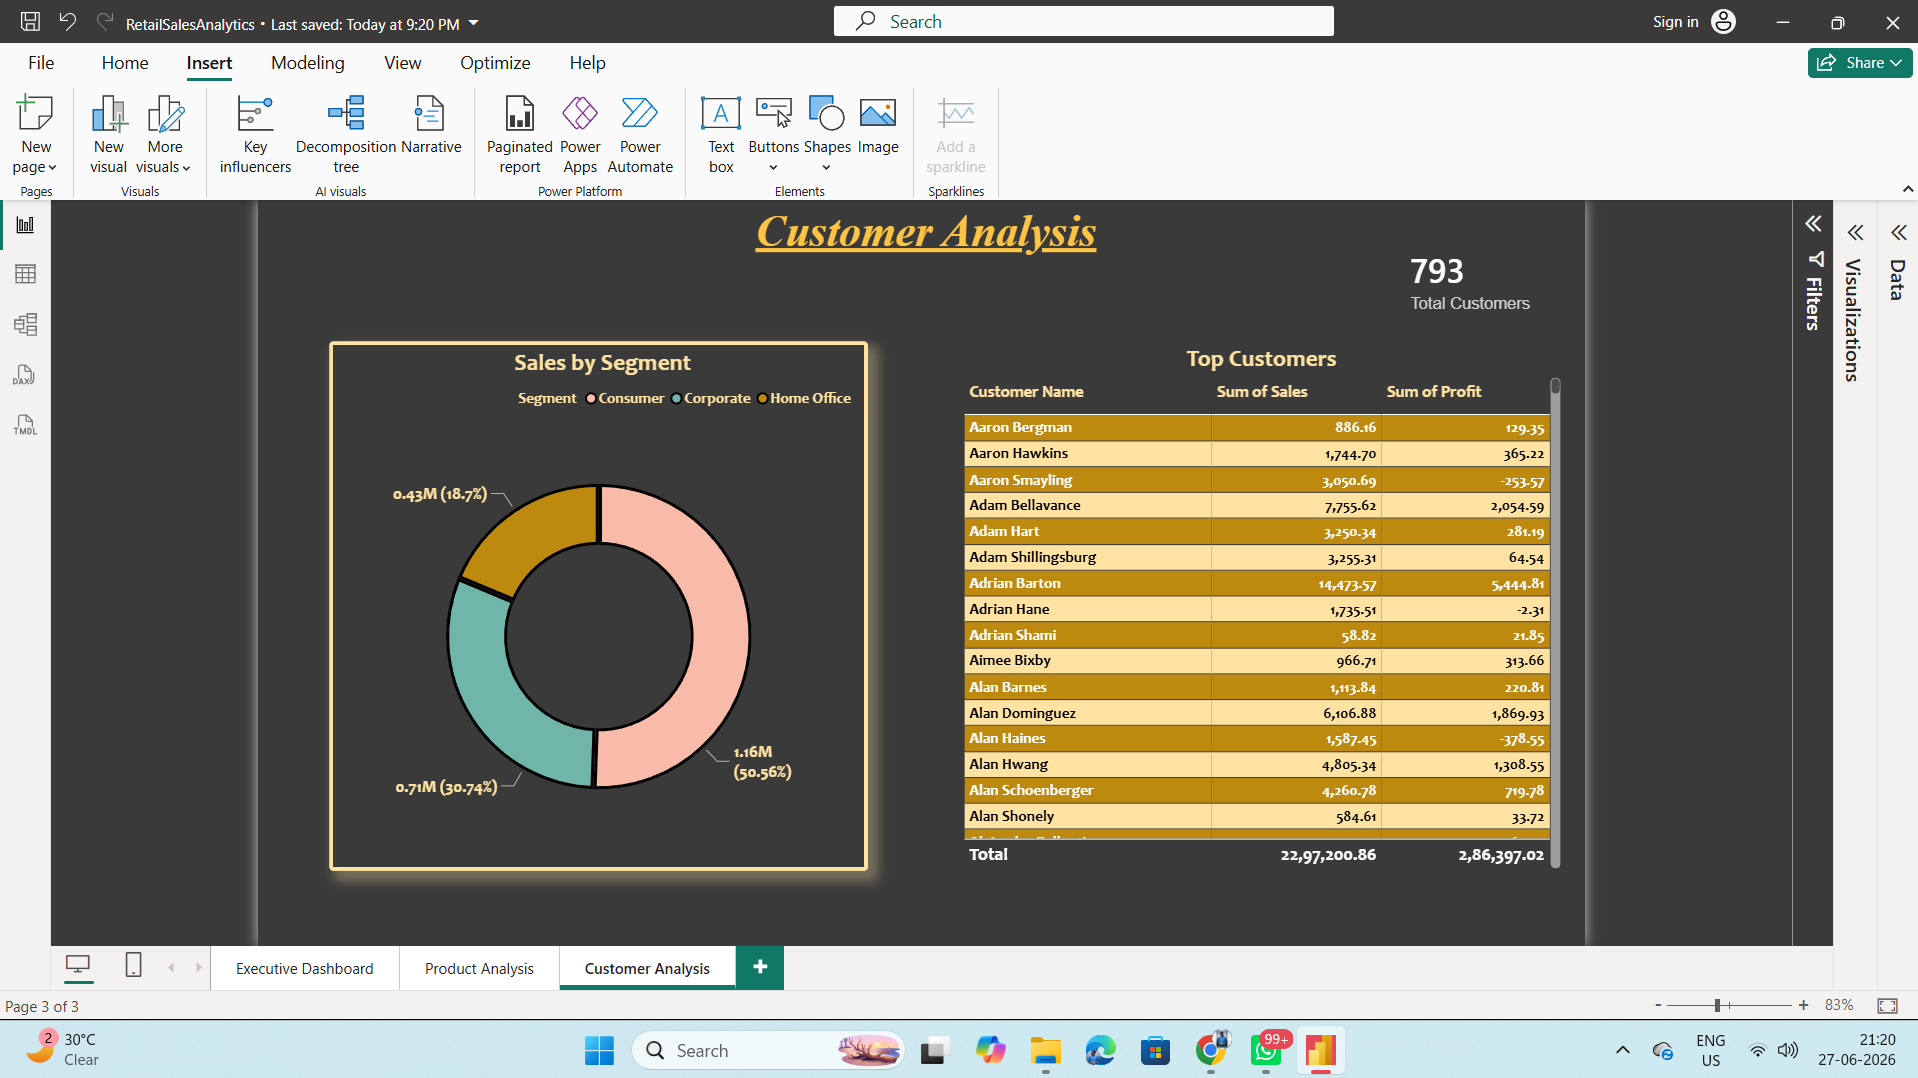

The dashboard page shown, as its layout file describes it:
{"tool":"powerbi","page":{"name":"Customer Analysis","canvas":[1280,720],"ordinal":2},"visuals":[{"type":"textbox","box":[10,0,1270,65],"z":0},{"type":"donutChart","title":"Sales by Segment","fields":{"Y":["Sum(Sample - Superstore.Sales)"],"Series":["Sample - Superstore.Segment"]},"box":[68.8,136.3,520,511.5],"z":1},{"type":"tableEx","title":"Top Customers","fields":{"Values":["Sample - Superstore.Customer Name","Sum(Sample - Superstore.Sales)","Sum(Sample - Superstore.Profit)"]},"box":[675.6,138.7,586.3,511.5],"z":2},{"type":"cardVisual","fields":{"Data":["DateTable.Total Customers"]},"box":[1082.2,16.9,179.8,119.4],"z":3}]}

Visuals, with their boxes on the page's 1280x720 design canvas (x1, y1, x2, y2). These are canvas units, not pixel positions in the 1918x1078 screenshot, which may show the page scaled, cropped or inside an application window:
textbox: <region>10, 0, 1280, 65</region>
"Sales by Segment" donutChart: <region>69, 136, 589, 648</region>
"Top Customers" tableEx: <region>676, 139, 1262, 650</region>
cardVisual - DateTable.Total Customers: <region>1082, 17, 1262, 136</region>
